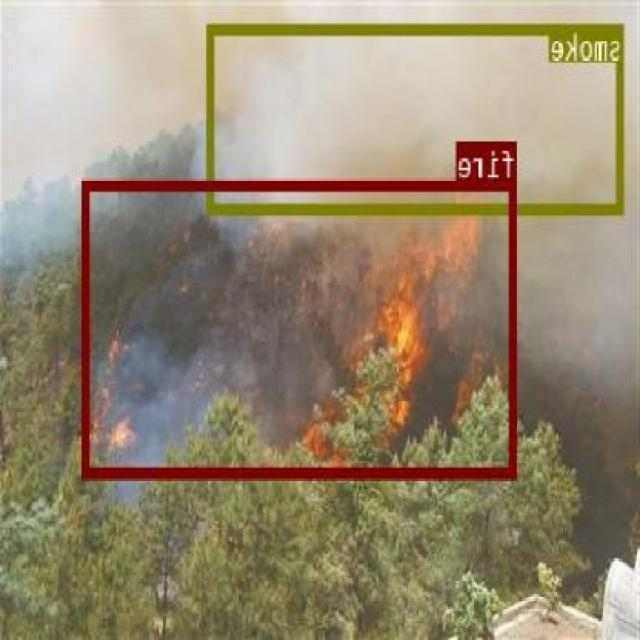Fire: (288, 162, 506, 460)
Smoke: (87, 0, 640, 480)
